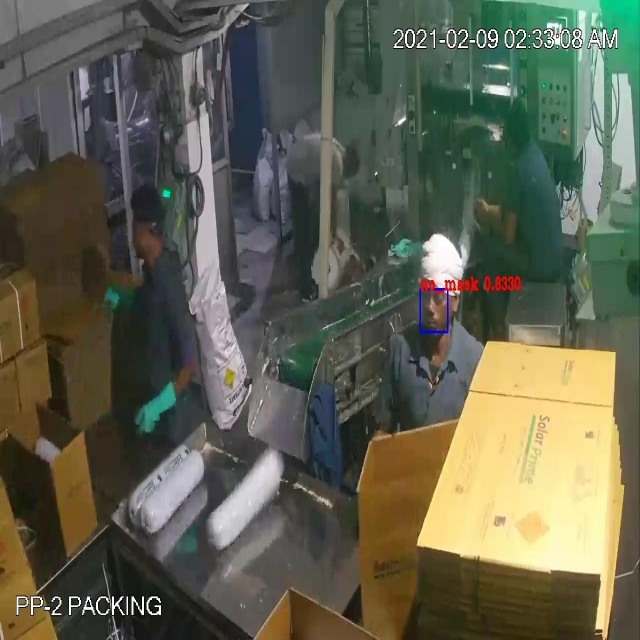Guantes: (132, 381, 185, 440), (102, 274, 146, 325)
Sin_guantes: (467, 181, 524, 253)
